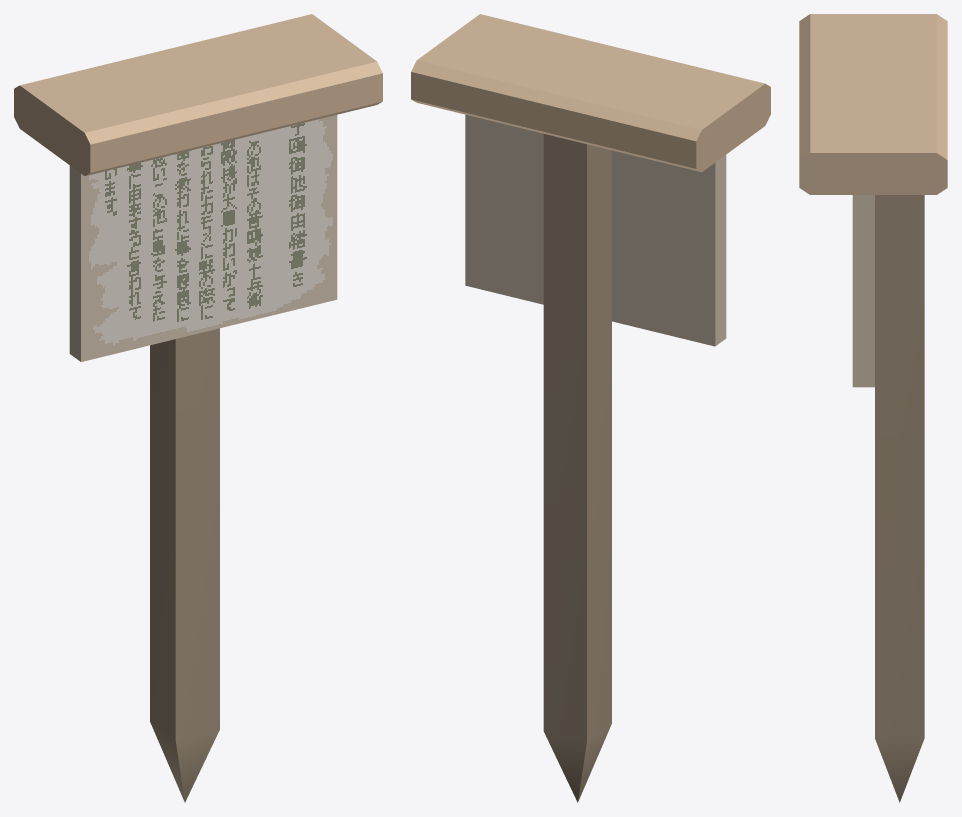
File: 054f_Pond_Guide.glb
The picture shows the model from 3 angles, left to right: view 1: azimuth 30°, elevation 25°; view 2: azimuth 150°, elevation 25°; view 3: azimuth 270°, elevation 25°; orthographic projection. The views are drawn at different scales.
Visible parts, largest first — view 1: part_0; view 2: part_0; view 3: part_0.
Part boxes in pixels (left/top/right/bottom): part_0: left=14, top=14, right=382, bottom=802; part_0: left=411, top=14, right=770, bottom=802; part_0: left=799, top=14, right=947, bottom=802.
Bounding box in the file's own units: 0.7933 × 1.92 × 0.3588.
1 material, 1 textured.
